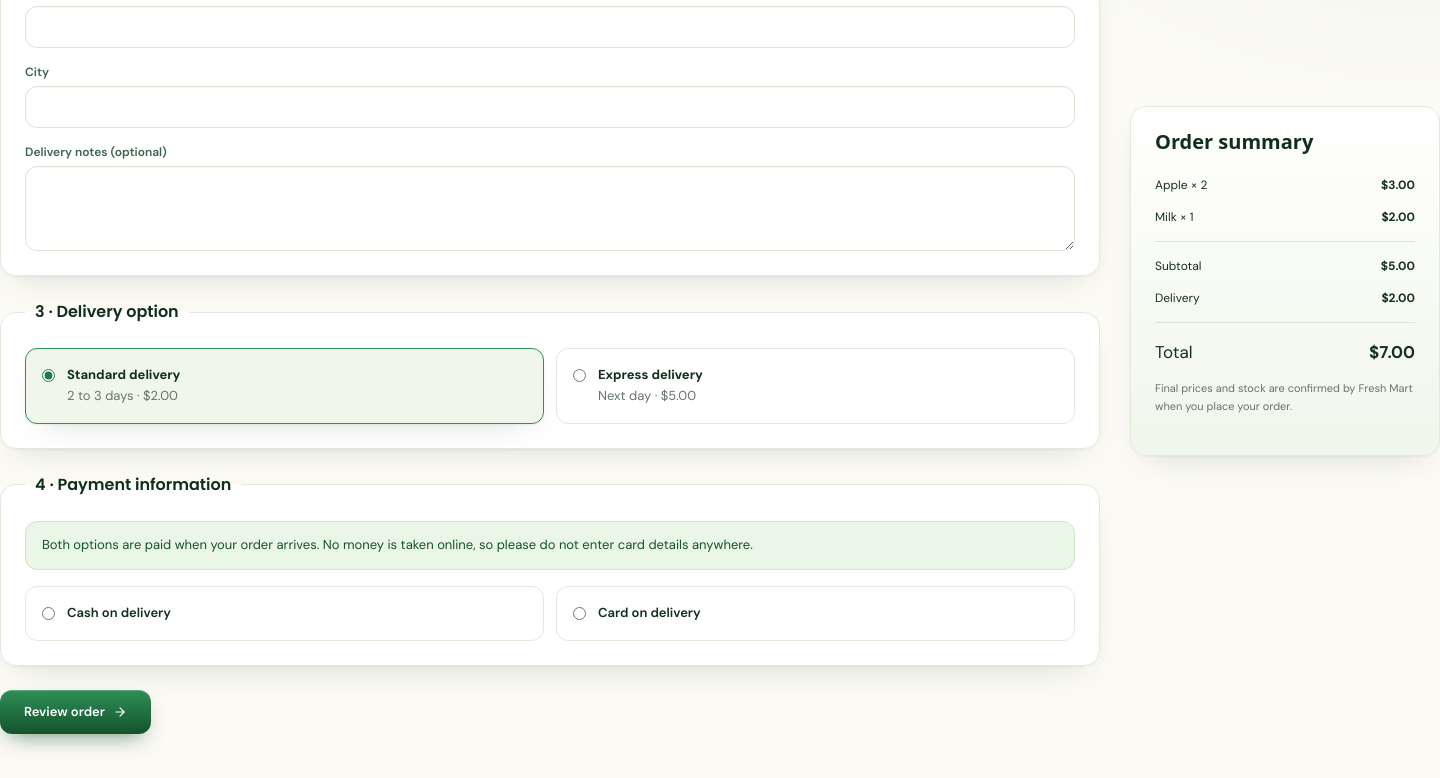
Sprint 3: screens › checkout will not continue until the required answers are given
The image size is (1440, 778).
(page scrolled)
What coordinates should you click on to do the following:
click the button "Review order"
I would click on:
 (75, 712)
Its box is x1=0 y1=690 x2=151 y2=734.
(page scrolled)
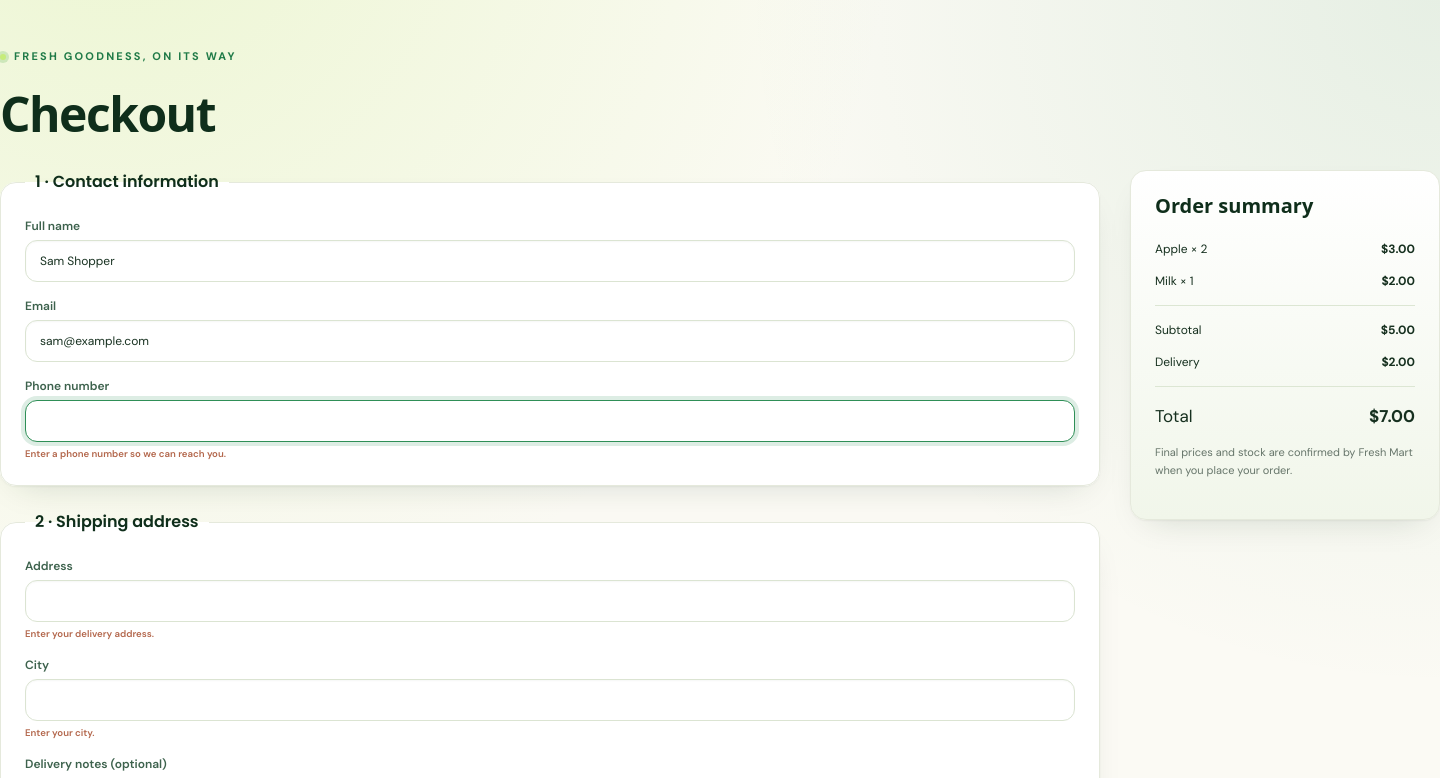
Expected: the text "Enter a phone number so we can reach you." is shown, x1=25 y1=447 x2=226 y2=460
Expected: the text "Enter your delivery address." is shown, x1=25 y1=627 x2=154 y2=640
Expected: the text "Enter your city." is shown, x1=25 y1=726 x2=95 y2=739
